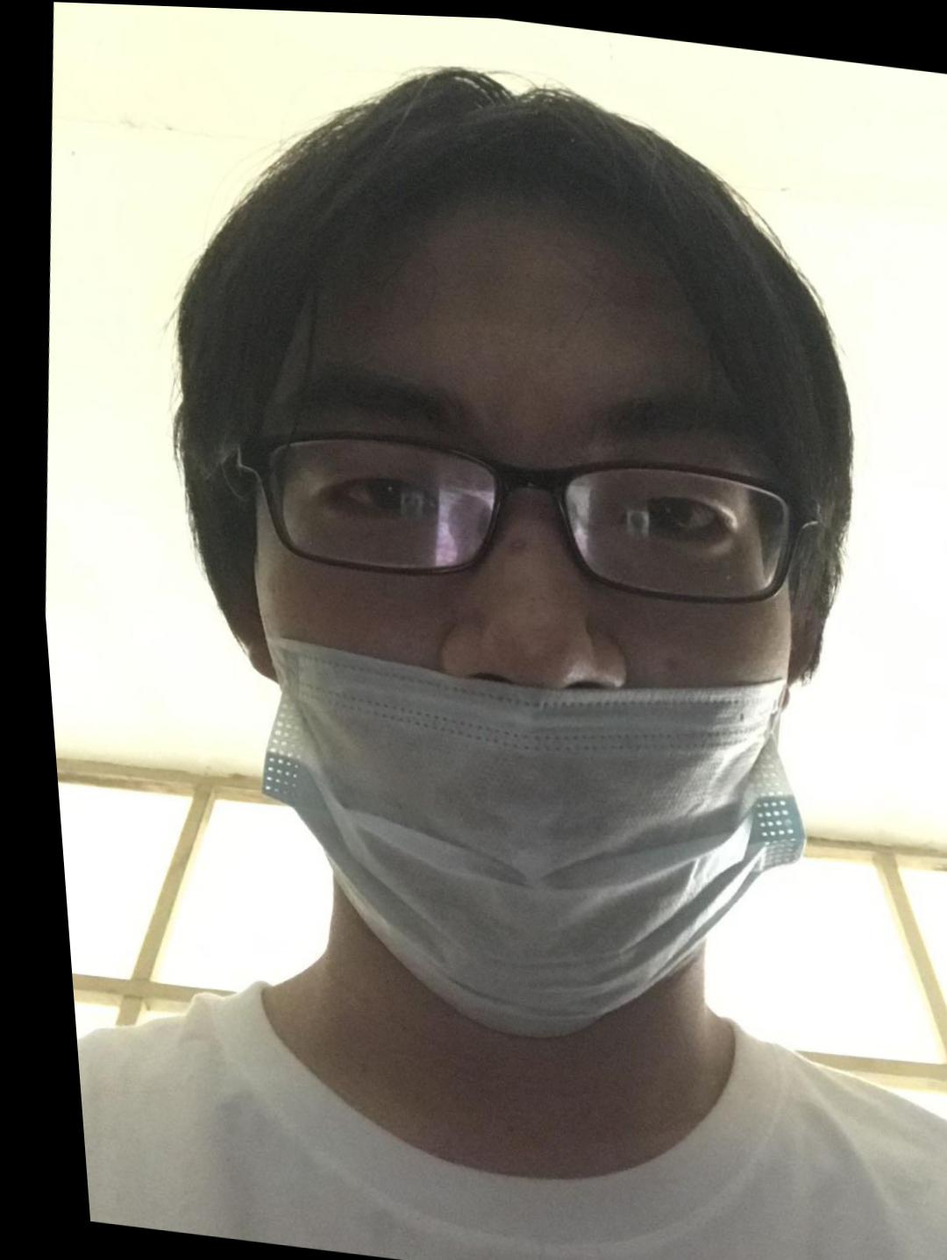WRONG: (200, 300, 825, 1041)
